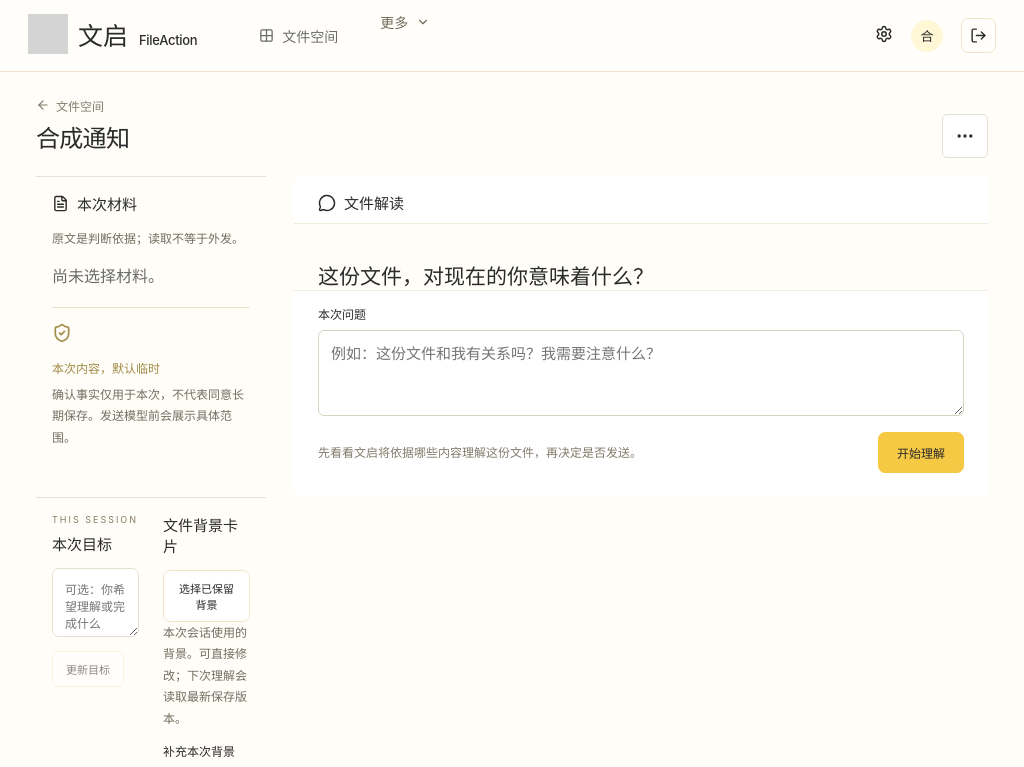
Test: 下一轮读取最新历史，在外发预览中逐条展示，不自动运行
Click the button with aria-label "预览外发内容". click: (921, 453)
box: [878,432,964,473]
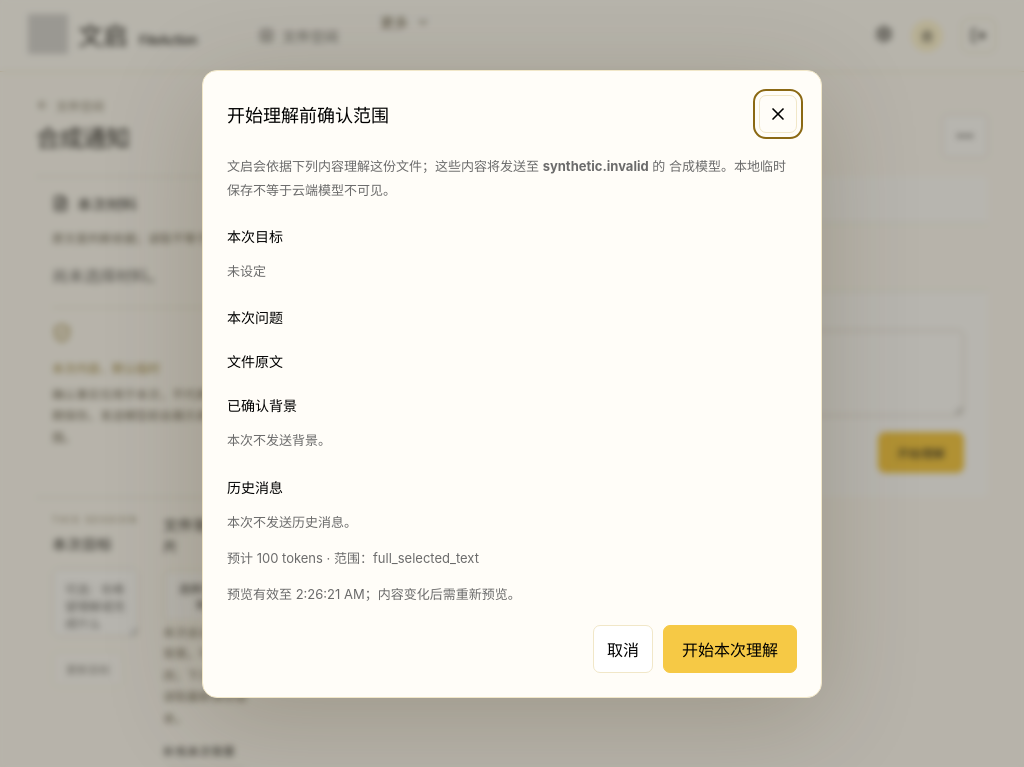
Click the button "开始本次理解". click: (730, 649)
box: [663,625,797,673]
(page scrolled)
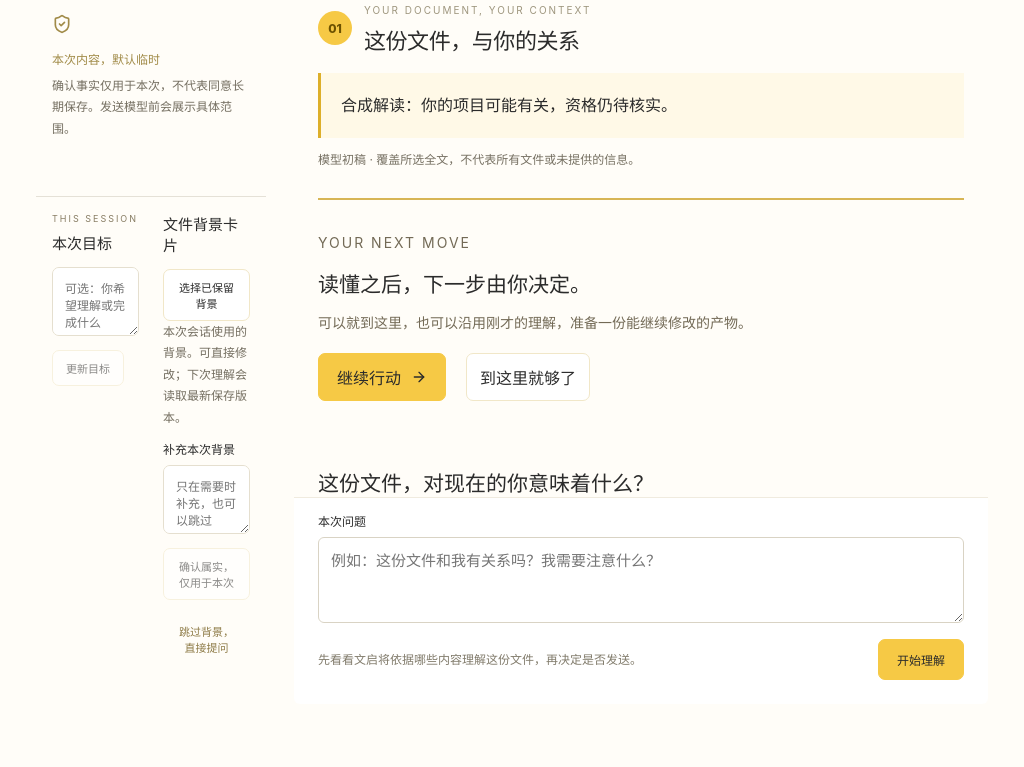
Check: the text "合成解读：你的项目可能有关，资格仍待核实。" is shown, box [318,73,964,138]
Type "按刚才说的继续" into the text box labelled "本次问题". click: (641, 580)
box: [318,538,964,624]
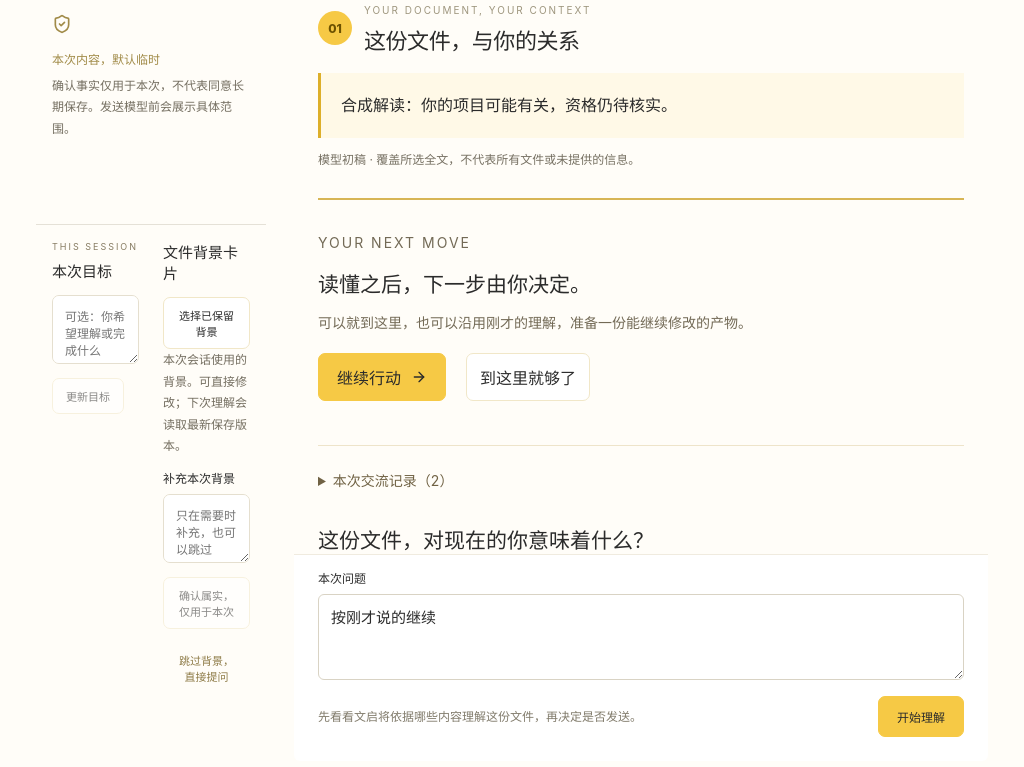
Click the button with aria-label "预览外发内容". click: (921, 717)
box: [878,696,964,738]
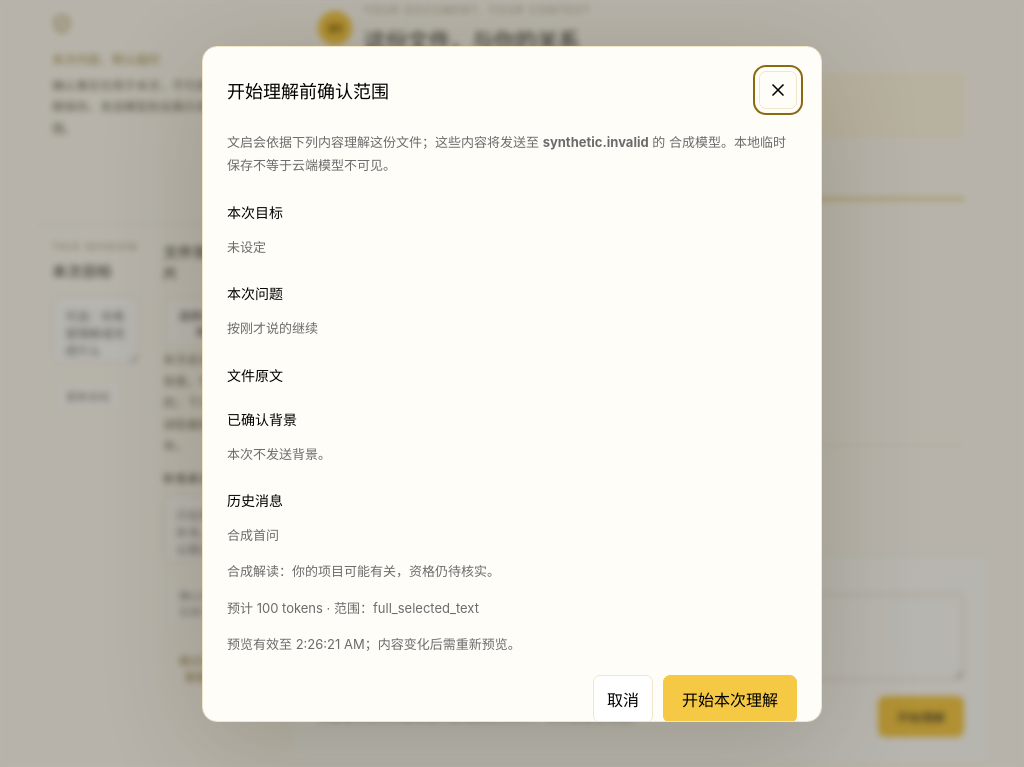
Check: the dialog shows "合成首问", box [227,527,279,543]
Check: the dialog shows "合成解读：你的项目可能有关，资格仍待核实。", box [227,563,500,579]
